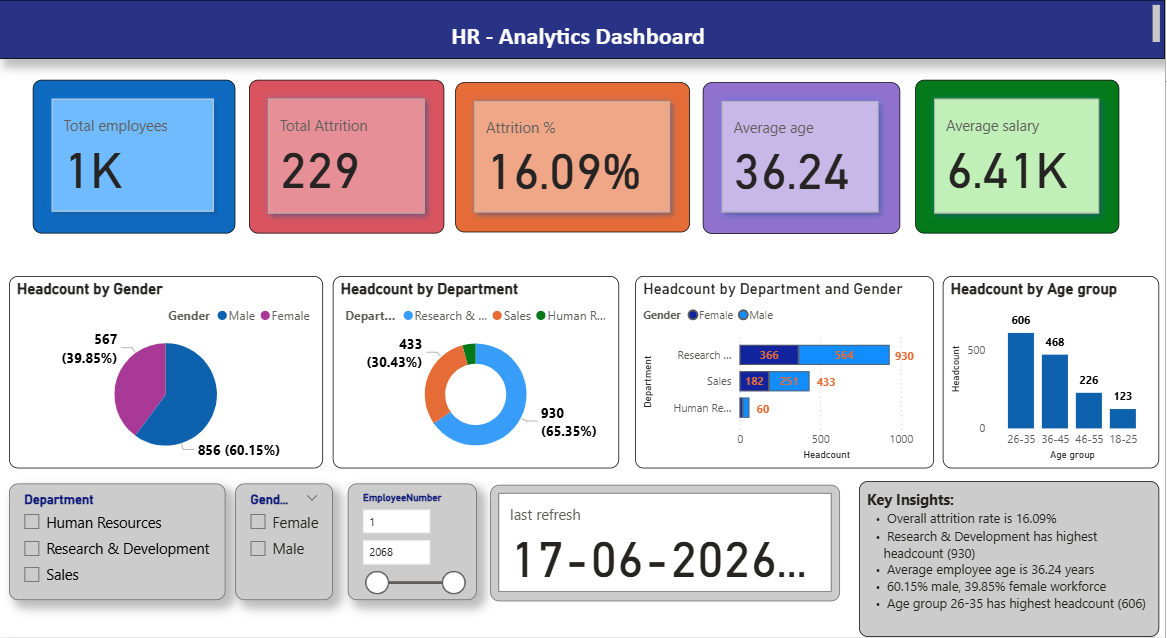

The dashboard page shown, as its layout file describes it:
{"tool":"powerbi","page":{"name":"Page 1","canvas":[1280,720],"ordinal":0},"visuals":[{"type":"cardVisual","fields":{"Data":["HR data.Total employees"]},"box":[22.9,108.2,222.5,198.1],"z":0},{"type":"cardVisual","fields":{"Data":["HR data.Total Attrition"]},"box":[272.8,108.2,230.2,198.1],"z":1000},{"type":"cardVisual","fields":{"Data":["HR data.Attrition %"]},"box":[524.3,108.2,231.7,198.1],"z":2000},{"type":"cardVisual","fields":{"Data":["HR data.Average salary"]},"box":[1041,108.2,239.3,198.1],"z":3000},{"type":"cardVisual","fields":{"Data":["HR data.Average age"]},"box":[780.4,108.2,245.4,198.1],"z":4000},{"type":"pieChart","fields":{"Category":["HR data.Gender"],"Y":["HR data.Headcount"]},"box":[33.5,327.7,224.1,211.9],"z":5000},{"type":"donutChart","fields":{"Category":["HR data.Department"],"Y":["HR data.Headcount"]},"box":[326.2,327.7,211.9,207.3],"z":6000},{"type":"barChart","fields":{"Category":["HR data.Department"],"Y":["HR data.Headcount"],"Series":["HR data.Gender"]},"box":[620.3,327.7,218,207.3],"z":7000},{"type":"clusteredColumnChart","fields":{"Category":["HR data.Age group"],"Y":["HR data.Headcount"]},"box":[928.2,327.7,236.2,207.3],"z":8000},{"type":"slicer","fields":{"Values":["HR data.Department"]},"box":[134.1,570,254.5,126.5],"z":9000},{"type":"slicer","fields":{"Values":["HR data.Gender"]},"box":[467.9,570,265.2,125],"z":10000},{"type":"slicer","fields":{"Values":["HR data.EmployeeNumber"]},"box":[818.5,570,256.1,125],"z":11000},{"type":"textbox","box":[0,0,1280.3,108.2],"z":12000},{"type":"cardVisual","fields":{"Data":["HR data.last refresh"]},"box":[1097.8,569.5,182.5,126.2],"z":13000}]}

Visuals, with their boxes in screenshot pixels (x1, y1, x2, y2), scaled from the page's 1280x720 canvas onto the 1167x638 screenshot:
cardVisual - HR data.Total employees: crop(21, 96, 224, 271)
cardVisual - HR data.Total Attrition: crop(249, 96, 459, 271)
cardVisual - HR data.Attrition %: crop(478, 96, 689, 271)
cardVisual - HR data.Average salary: crop(949, 96, 1166, 271)
cardVisual - HR data.Average age: crop(712, 96, 935, 271)
pieChart - HR data.Gender x HR data.Headcount: crop(31, 290, 235, 478)
donutChart - HR data.Department x HR data.Headcount: crop(297, 290, 491, 474)
barChart - HR data.Department x HR data.Headcount: crop(566, 290, 764, 474)
clusteredColumnChart - HR data.Age group x HR data.Headcount: crop(846, 290, 1062, 474)
slicer - HR data.Department: crop(122, 505, 354, 617)
slicer - HR data.Gender: crop(427, 505, 668, 616)
slicer - HR data.EmployeeNumber: crop(746, 505, 980, 616)
textbox: crop(0, 0, 1166, 96)
cardVisual - HR data.last refresh: crop(1001, 505, 1166, 616)
